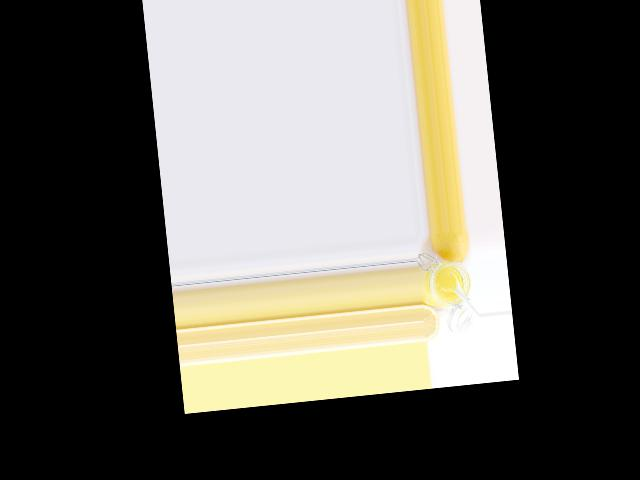lemon: (430, 229, 470, 266)
